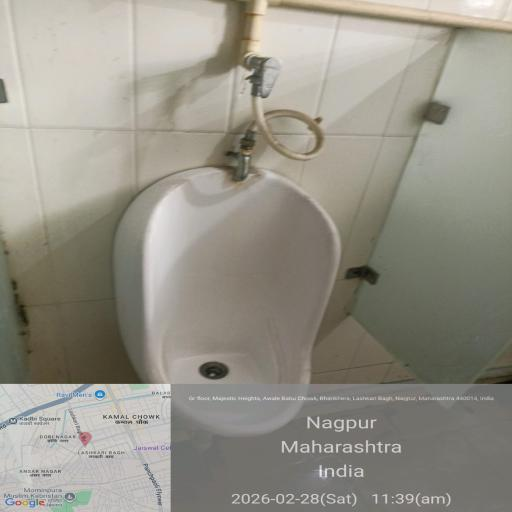clean_floor: (7, 6, 512, 118)
clean_urinal: (80, 136, 359, 436)
partial_dirty_floor: (62, 388, 512, 511)
